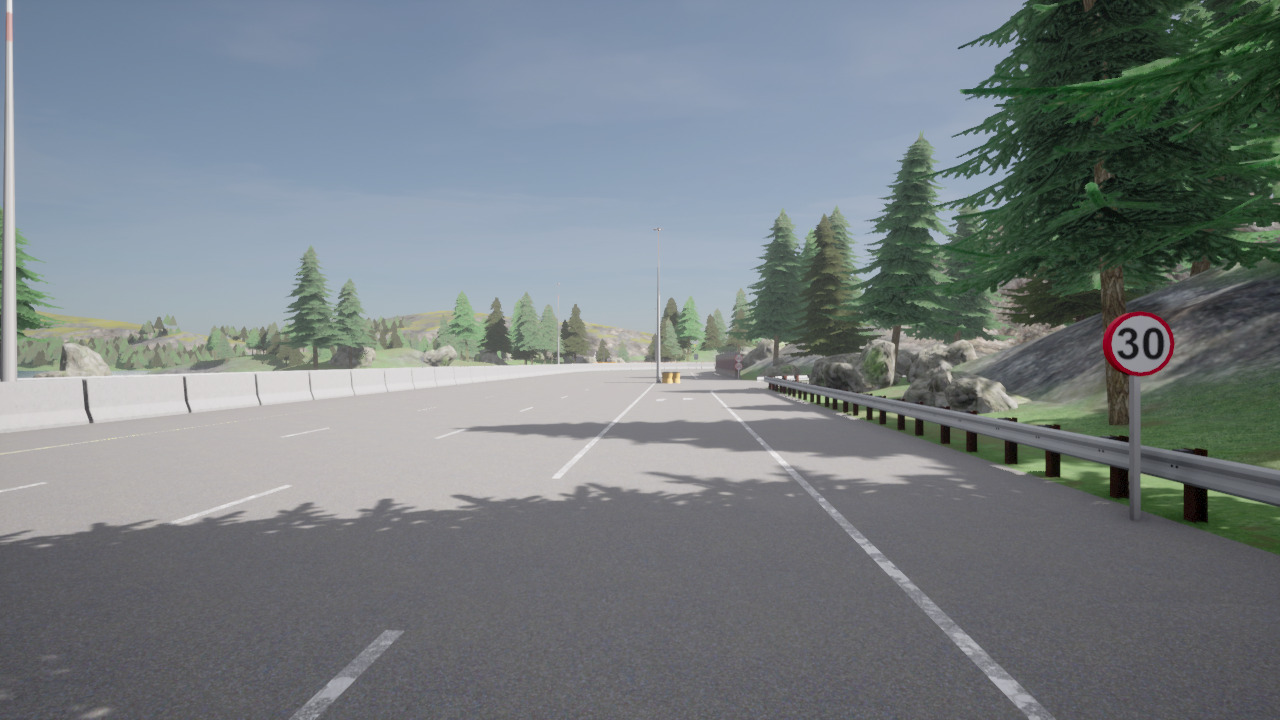sl30: (1101, 309, 1176, 377)
